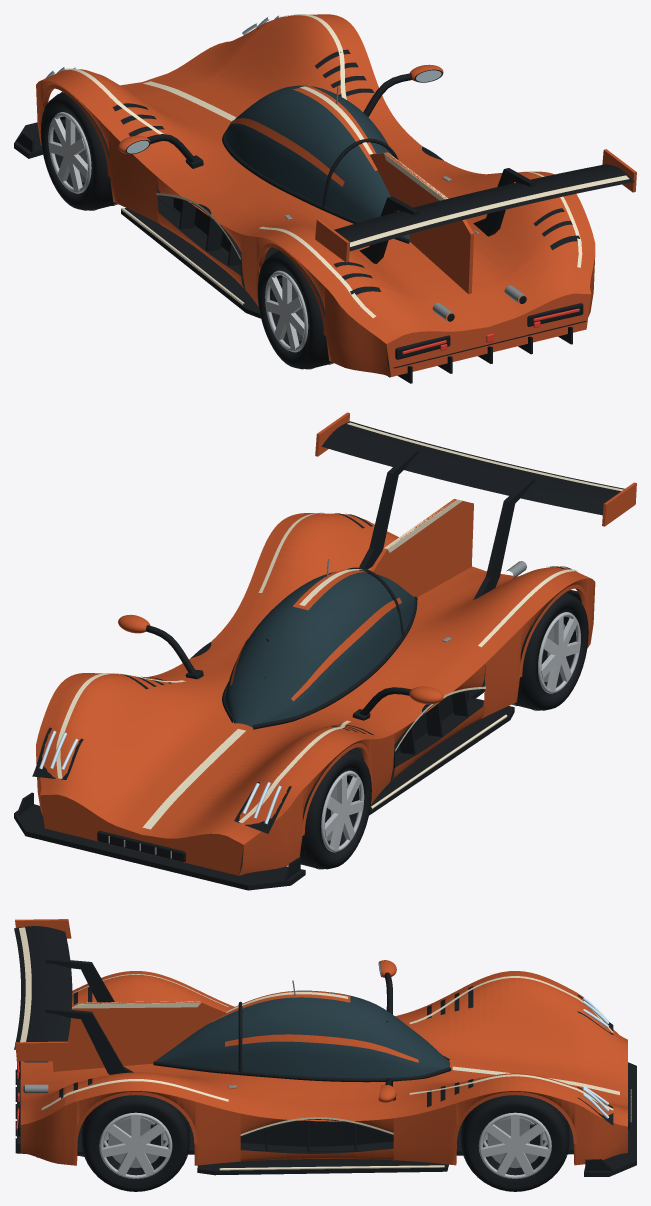
File: prototype-high.glb
3 renders of one model, top to bottom at view 1: azimuth 30°, elevation 25°; view 2: azimuth 150°, elevation 25°; view 3: azimuth 270°, elevation 25°, orthographic. The views are drawn at different scales.
Visible parts, largest first — view 1: body_paint, body_carbon, body_glass, wheel_carbon (×2), body_accent, wheel_rim (×2), body_rearLights; view 2: body_paint, body_carbon, body_glass, wheel_carbon (×2), body_accent, wheel_rim (×2), body_lights; view 3: body_paint, body_carbon, body_glass, wheel_carbon (×2), wheel_rim (×2), body_accent, wheel_metal (×2), body_lights, body_metal.
Part boxes in pixels (x1,y1,x2,y2): body_paint: (36,14,636,376); body_carbon: (14,28,634,383); body_glass: (225,85,410,242); wheel_carbon (×2): (40,91,333,369); body_accent: (63,14,629,317); wheel_rim (×2): (48,112,308,352); body_rearLights: (402,308,579,354); body_paint: (36,412,636,875); body_carbon: (14,421,624,890); body_glass: (225,571,415,727); wheel_carbon (×2): (299,592,588,869); body_accent: (56,422,623,829); wheel_rim (×2): (321,612,580,852); body_lights: (39,730,281,824); body_paint: (15,919,627,1165); body_carbon: (14,926,636,1176); body_glass: (155,990,449,1078); wheel_carbon (×2): (81,1095,569,1191); wheel_rim (×2): (99,1112,551,1178); body_accent: (19,927,619,1170); wheel_metal (×2): (108,1117,543,1168); body_lights: (582,997,609,1118); body_metal: (24,980,631,1122).
Size of the model in its own units: 1.25 by 0.6692 by 2.38.
